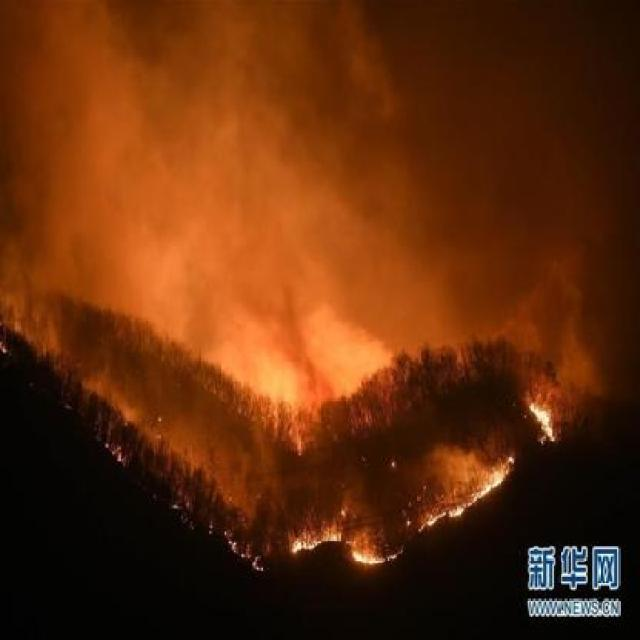Fire: (287, 522, 406, 576), (424, 492, 464, 536), (526, 398, 558, 449), (476, 452, 502, 504)
